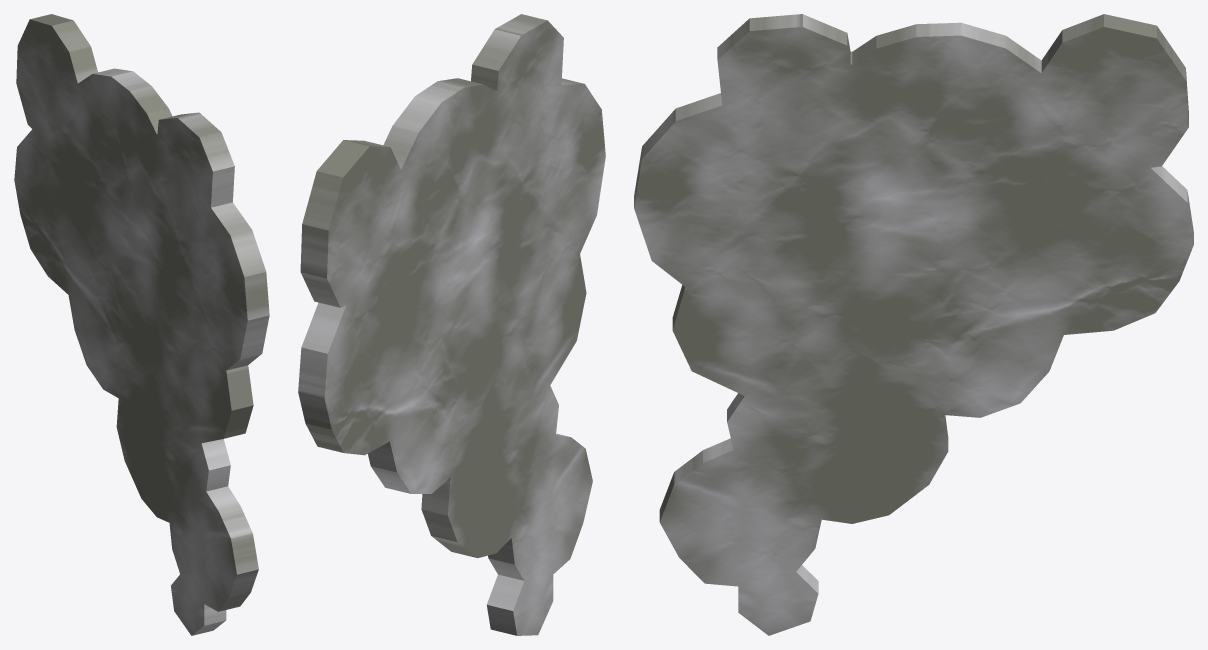
Rendered from FUMEE2.fbx.
The picture shows the model from 3 angles, left to right: view 1: azimuth 30°, elevation 25°; view 2: azimuth 150°, elevation 25°; view 3: azimuth 270°, elevation 25°; orthographic projection. The views are drawn at different scales.
Visible parts, largest first — view 1: Vert.001; view 2: Vert.001; view 3: Vert.001.
Boxes of the visible parts, x1,y1,x2,y2 form: Vert.001: [14, 14, 269, 635]; Vert.001: [298, 14, 605, 635]; Vert.001: [634, 14, 1193, 635].
Size of the model in its own units: 5 by 111 by 92.05.
Materials: 1 (1 with a texture image).
